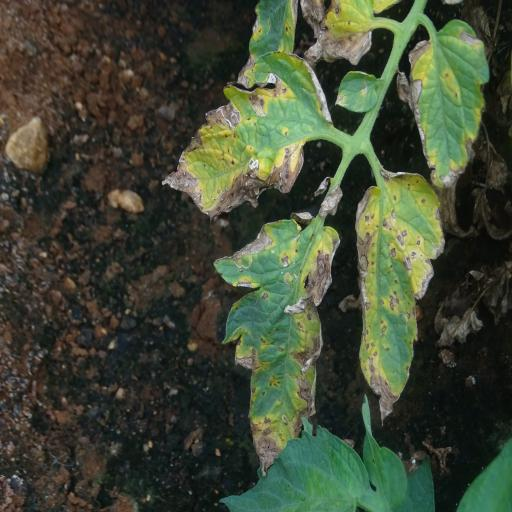Early Blight: (212, 209, 342, 480), (161, 50, 333, 218), (354, 172, 446, 426), (406, 16, 488, 188), (302, 1, 374, 65)
